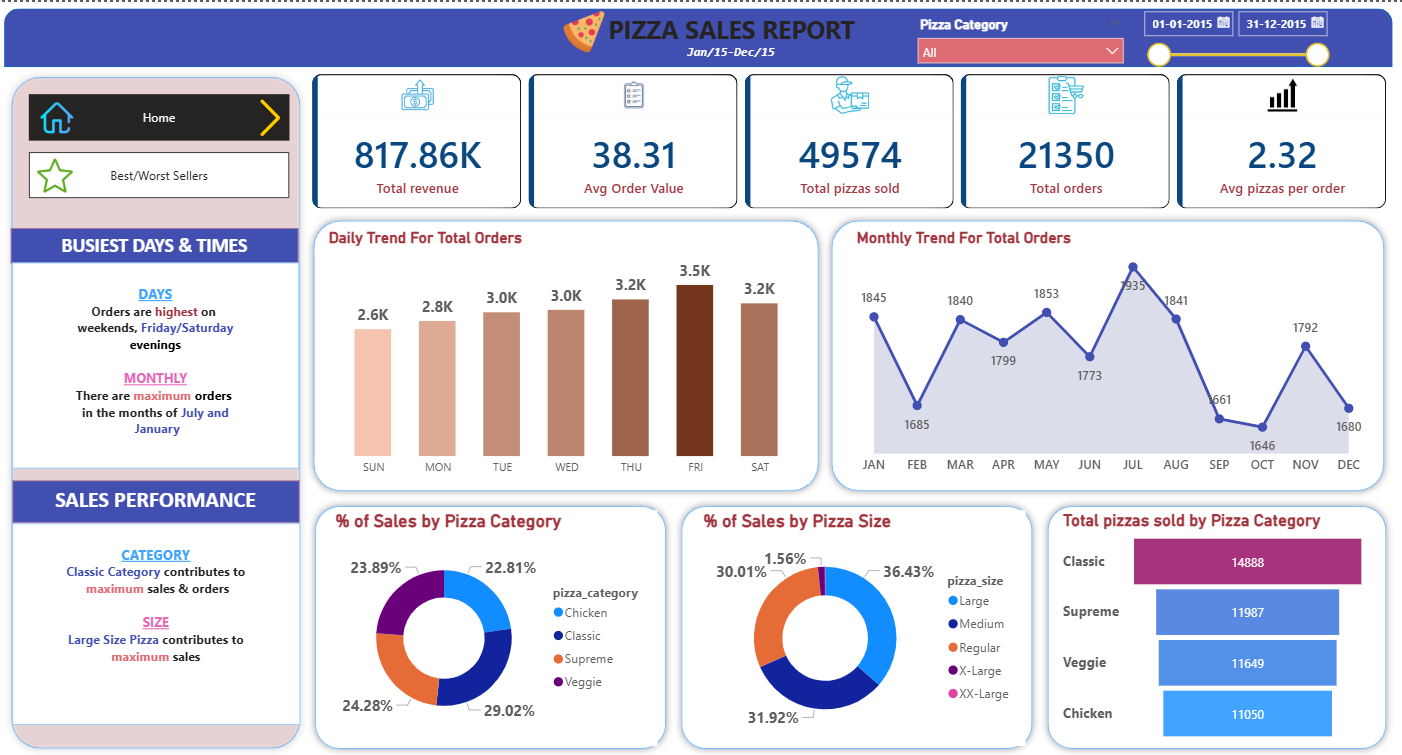

This screenshot's page, from the dashboard's own definition file:
{"tool":"powerbi","page":{"name":"Home","canvas":[1550,820],"ordinal":0},"visuals":[{"type":"cardVisual","fields":{"Data":["pizza_sales.Total revenue","pizza_sales.Avg Order Value","pizza_sales.Total pizzas sold","pizza_sales.Total orders","pizza_sales.Avg pizzas per order"]},"box":[350,73.3,1180,156.7],"z":0},{"type":"shape","box":[20.1,6.7,1509.1,63.7],"z":1000},{"type":"textbox","box":[650.6,6.7,318.6,63.7],"z":2000},{"type":"textbox","box":[729.4,38.6,159.3,31.9],"z":3000},{"type":"image","box":[620.4,8.4,58.7,46.9],"z":4000},{"type":"shape","box":[348.8,230,565.1,310],"z":5000},{"type":"columnChart","title":"Daily Trend For Total Orders","fields":{"Category":["pizza_sales.Order Day"],"Y":["pizza_sales.Total orders"]},"box":[368,246,528,278],"z":6000},{"type":"shape","box":[911.7,230,616.7,310],"z":7000},{"type":"areaChart","title":"Monthly Trend For Total Orders ","fields":{"Category":["pizza_sales.Order month"],"Y":["pizza_sales.Total orders"]},"box":[940.9,245.5,563.6,277.3],"z":8000},{"type":"shape","box":[350.4,539.9,397.4,280],"z":9000},{"type":"shape","box":[747.8,539.9,397.4,280],"z":10000},{"type":"shape","box":[1145.2,539.9,384,280],"z":11000},{"type":"donutChart","title":"% of Sales by Pizza Category","fields":{"Series":["pizza_sales.pizza_category"],"Y":["pizza_sales.Total orders"]},"box":[374.8,552.3,355.1,256.4],"z":12000},{"type":"donutChart","title":"% of Sales by Pizza Size","fields":{"Y":["pizza_sales.Total orders"],"Series":["pizza_sales.pizza_size"]},"box":[775.2,552.3,355.1,256.4],"z":13000},{"type":"funnel","title":"Total pizzas sold by Pizza Category","fields":{"Category":["pizza_sales.pizza_category"],"Y":["pizza_sales.Total pizzas sold"]},"box":[1165.8,552.3,339.3,256.4],"z":14000},{"type":"shape","box":[20,74,330,746],"z":15000},{"type":"textbox","box":[27,245,313,38],"z":16000},{"type":"textbox","box":[28,520,312,46],"z":17000},{"type":"textbox","box":[28.3,283.3,311.7,223.3],"z":18000},{"type":"textbox","box":[28.1,567.3,312.6,218.8],"z":19000},{"type":"slicer","fields":{"Values":["pizza_sales.pizza_category"]},"box":[1003.4,10.2,244.1,57.6],"z":20000},{"type":"slicer","fields":{"Values":["pizza_sales.order_date"]},"box":[1246.7,0,221.7,85],"z":21000},{"type":"pageNavigator","box":[45.8,100,283.1,50.8],"z":22000},{"type":"pageNavigator","box":[45.8,162.7,283.1,50.8],"z":23000},{"type":"image","box":[288.1,100,40.7,50.8],"z":24000},{"type":"image","box":[59.3,100,35.6,50.8],"z":25000},{"type":"image","box":[55.9,162.7,39,50.8],"z":26000}]}

Visuals, with their boxes in screenshot pixels (x1, y1, x2, y2), scaled from the page's 1550x820 canvas onto the 1402x755 screenshot:
cardVisual - pizza_sales.Total revenue x pizza_sales.Avg Order Value: {"x1": 317, "y1": 67, "x2": 1384, "y2": 212}
shape: {"x1": 18, "y1": 6, "x2": 1383, "y2": 65}
textbox: {"x1": 588, "y1": 6, "x2": 877, "y2": 65}
textbox: {"x1": 660, "y1": 36, "x2": 804, "y2": 65}
image: {"x1": 561, "y1": 8, "x2": 614, "y2": 51}
shape: {"x1": 315, "y1": 212, "x2": 827, "y2": 497}
"Daily Trend For Total Orders" columnChart: {"x1": 333, "y1": 226, "x2": 810, "y2": 482}
shape: {"x1": 825, "y1": 212, "x2": 1382, "y2": 497}
"Monthly Trend For Total Orders " areaChart: {"x1": 851, "y1": 226, "x2": 1361, "y2": 481}
shape: {"x1": 317, "y1": 497, "x2": 676, "y2": 754}
shape: {"x1": 676, "y1": 497, "x2": 1036, "y2": 754}
shape: {"x1": 1036, "y1": 497, "x2": 1383, "y2": 754}
"% of Sales by Pizza Category" donutChart: {"x1": 339, "y1": 509, "x2": 660, "y2": 745}
"% of Sales by Pizza Size" donutChart: {"x1": 701, "y1": 509, "x2": 1022, "y2": 745}
"Total pizzas sold by Pizza Category" funnel: {"x1": 1054, "y1": 509, "x2": 1361, "y2": 745}
shape: {"x1": 18, "y1": 68, "x2": 317, "y2": 754}
textbox: {"x1": 24, "y1": 226, "x2": 308, "y2": 261}
textbox: {"x1": 25, "y1": 479, "x2": 308, "y2": 521}
textbox: {"x1": 26, "y1": 261, "x2": 308, "y2": 466}
textbox: {"x1": 25, "y1": 522, "x2": 308, "y2": 724}
slicer - pizza_sales.pizza_category: {"x1": 908, "y1": 9, "x2": 1128, "y2": 62}
slicer - pizza_sales.order_date: {"x1": 1128, "y1": 0, "x2": 1328, "y2": 78}
pageNavigator: {"x1": 41, "y1": 92, "x2": 297, "y2": 139}
pageNavigator: {"x1": 41, "y1": 150, "x2": 297, "y2": 197}
image: {"x1": 261, "y1": 92, "x2": 297, "y2": 139}
image: {"x1": 54, "y1": 92, "x2": 86, "y2": 139}
image: {"x1": 51, "y1": 150, "x2": 86, "y2": 197}
